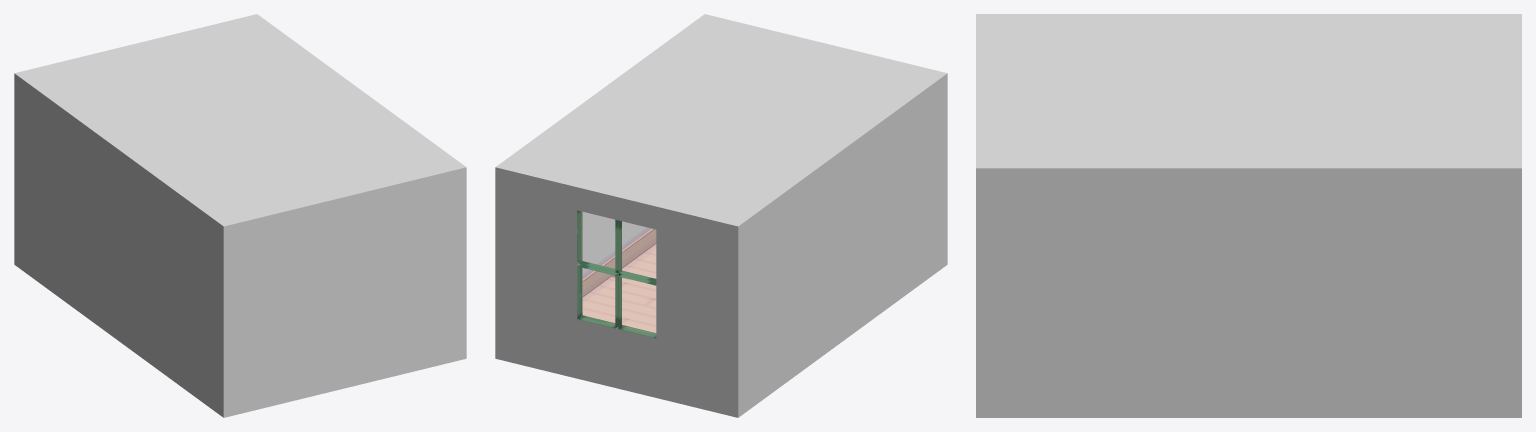
Rendered from room.fbx.
3 renders of one model, left to right at view 1: azimuth 30°, elevation 25°; view 2: azimuth 150°, elevation 25°; view 3: azimuth 270°, elevation 25°, orthographic. The views are drawn at different scales.
Visible parts, largest first — view 1: Cube.001; view 2: Cube.001, Plane; view 3: Cube.001.
Boxes of the visible parts, bbox=[...] form: Cube.001: bbox=[14, 14, 466, 417]; Cube.001: bbox=[495, 14, 947, 417]; Plane: bbox=[577, 210, 656, 338]; Cube.001: bbox=[976, 14, 1521, 417].
Bounding box in the file's own units: 770 × 580 × 1150.
1 material, 1 textured.
